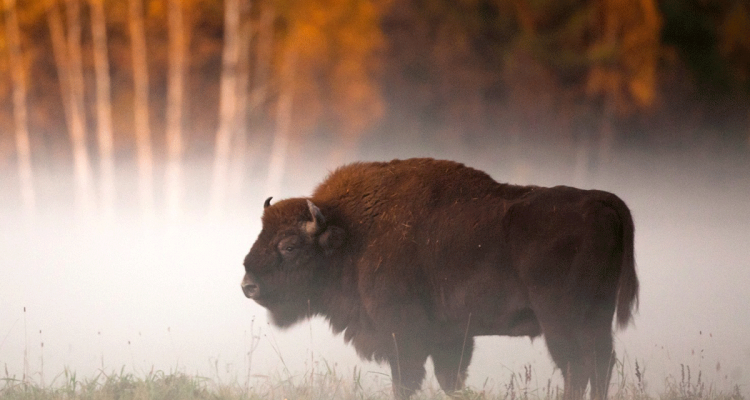zubr: (213, 153, 666, 400)
